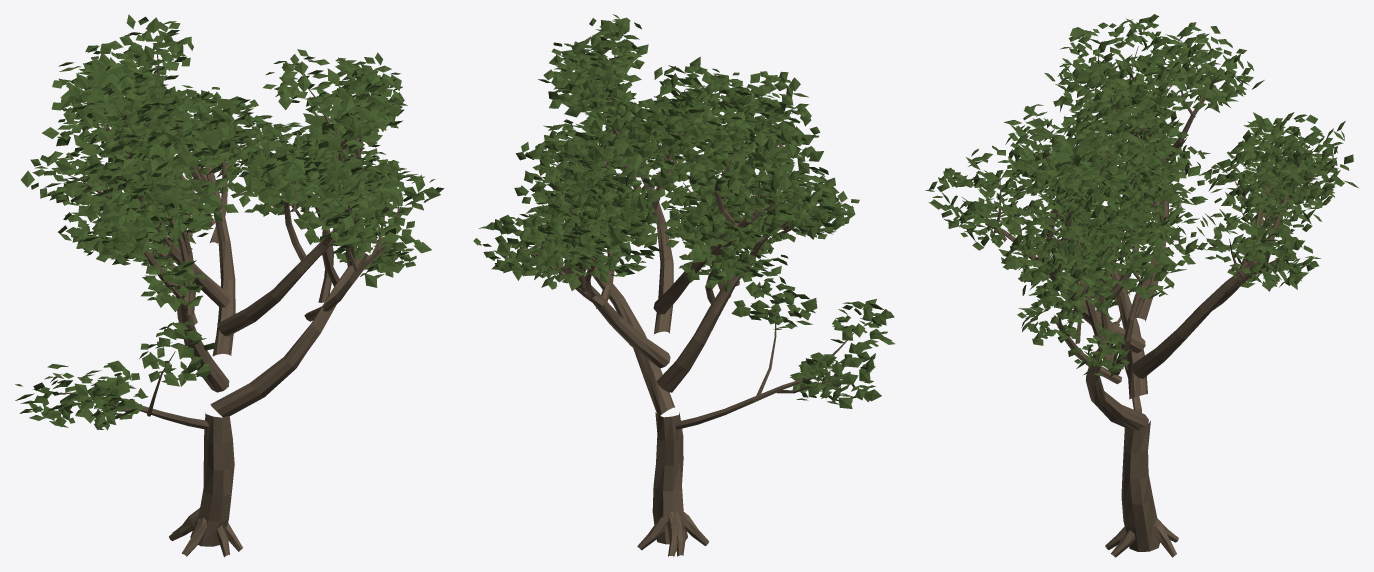
The model's file is open-vase-elm.glb.
The picture shows the model from 3 angles, left to right: view 1: azimuth 30°, elevation 25°; view 2: azimuth 150°, elevation 25°; view 3: azimuth 270°, elevation 25°; orthographic projection. The views are drawn at different scales.
Visible parts, largest first — view 1: individual-folded-leaves, connected-curved-wood; view 2: individual-folded-leaves, connected-curved-wood; view 3: individual-folded-leaves, connected-curved-wood.
Part boxes in pixels (x1,y1,x2,y2): individual-folded-leaves: (15,14,444,430); connected-curved-wood: (59,43,399,557); individual-folded-leaves: (473,14,894,408); connected-curved-wood: (525,55,853,556); individual-folded-leaves: (925,14,1358,377); connected-curved-wood: (962,46,1313,557).
Bounding box in the file's own units: 9.91 × 11.62 × 9.4.
